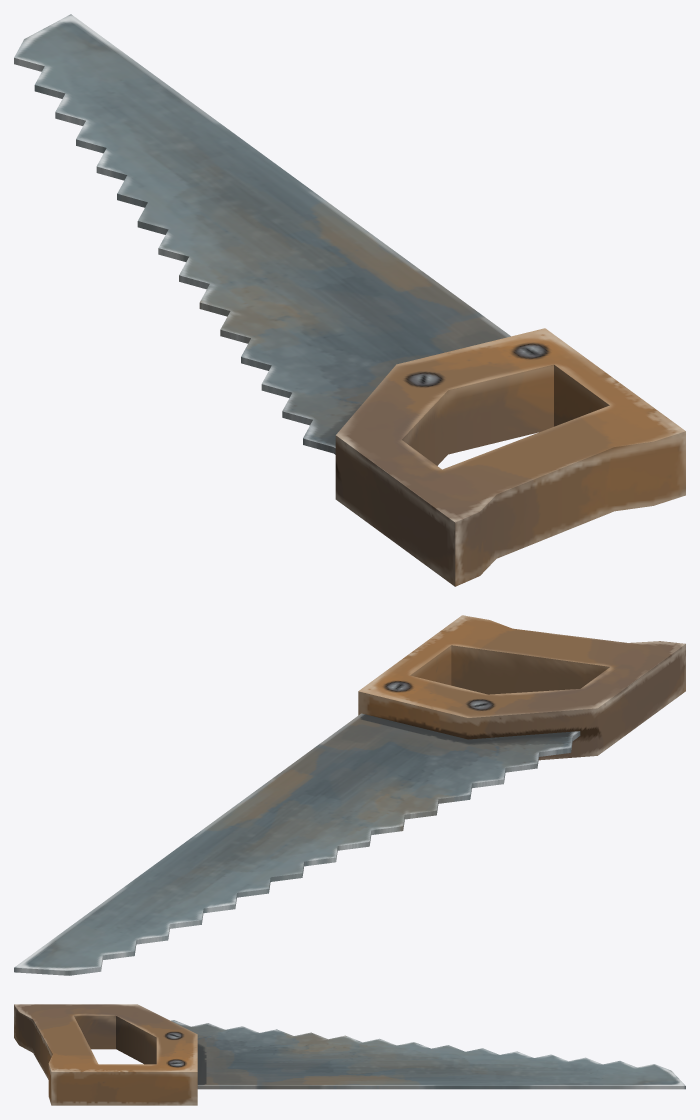
Rendered from ITEM_saw.fbx.
3 views of the same model, one above another, from view 1: azimuth 30°, elevation 25°; view 2: azimuth 150°, elevation 25°; view 3: azimuth 270°, elevation 25° (orthographic). The views are drawn at different scales.
Visible parts, largest first — view 1: ITEM_saw; view 2: ITEM_saw; view 3: ITEM_saw.
Part boxes in pixels (x1,y1,x2,y2): ITEM_saw: (14,14,685,586); ITEM_saw: (14,615,685,975); ITEM_saw: (14,1004,685,1105).
Bounding box in the file's own units: 11.55 × 2.66 × 48.47.
